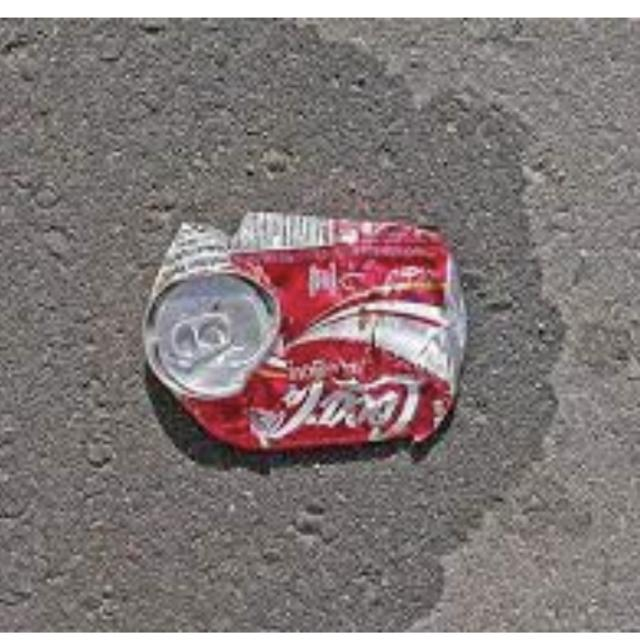can: (136, 194, 478, 478)
